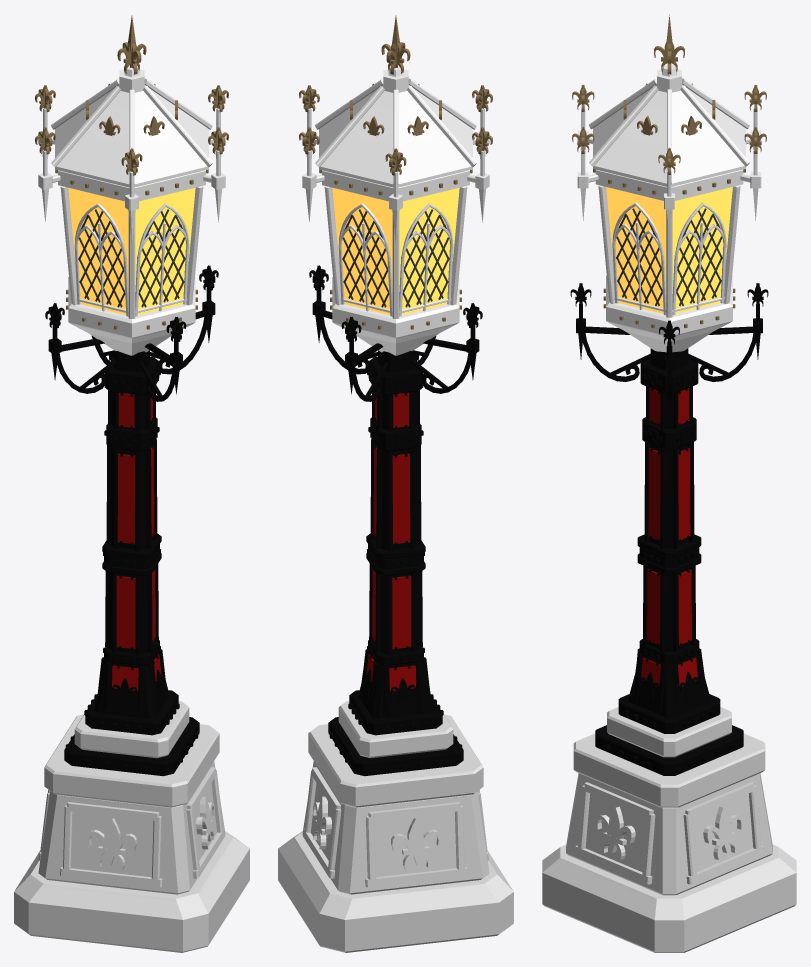
The model's file is SilverbrookStreetLamp4.fbx.
3 renders of one model, left to right at view 1: azimuth 30°, elevation 25°; view 2: azimuth 150°, elevation 25°; view 3: azimuth 270°, elevation 25°, orthographic.
Parts seen in each view (by area): view 1: SM_SBStreetLamp4_Pedestal, SM_SBStreetLamp4_Lantern, SM_SBStreetLamp4_Column; view 2: SM_SBStreetLamp4_Pedestal, SM_SBStreetLamp4_Lantern, SM_SBStreetLamp4_Column; view 3: SM_SBStreetLamp4_Pedestal, SM_SBStreetLamp4_Lantern, SM_SBStreetLamp4_Column.
Boxes of the visible parts, x1=… form: SM_SBStreetLamp4_Pedestal: x1=14, y1=701, x2=249, y2=952; SM_SBStreetLamp4_Lantern: x1=35, y1=15, x2=228, y2=355; SM_SBStreetLamp4_Column: x1=45, y1=265, x2=218, y2=776; SM_SBStreetLamp4_Pedestal: x1=278, y1=701, x2=513, y2=952; SM_SBStreetLamp4_Lantern: x1=299, y1=15, x2=492, y2=355; SM_SBStreetLamp4_Column: x1=309, y1=265, x2=482, y2=776; SM_SBStreetLamp4_Pedestal: x1=542, y1=707, x2=796, y2=952; SM_SBStreetLamp4_Lantern: x1=572, y1=14, x2=766, y2=352; SM_SBStreetLamp4_Column: x1=570, y1=283, x2=768, y2=775.
Bounding box in the file's own units: 130 × 500 × 130.
